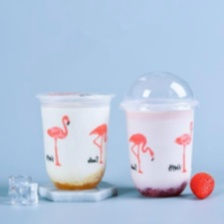glass: (118, 67, 203, 200), (38, 87, 114, 195)
